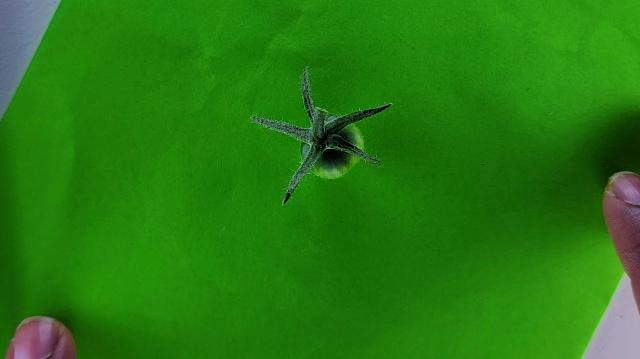Fruit Maturation: (300, 115, 365, 178)
